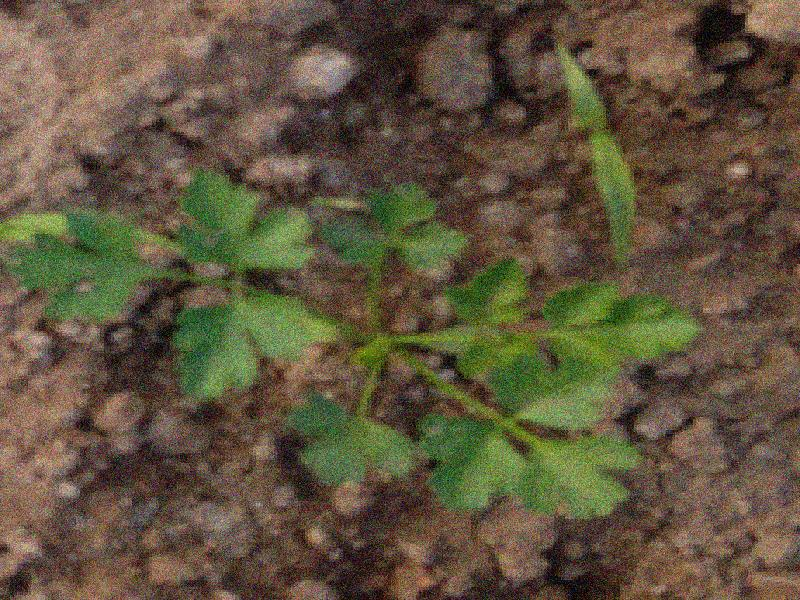radish: (7, 168, 705, 518)
